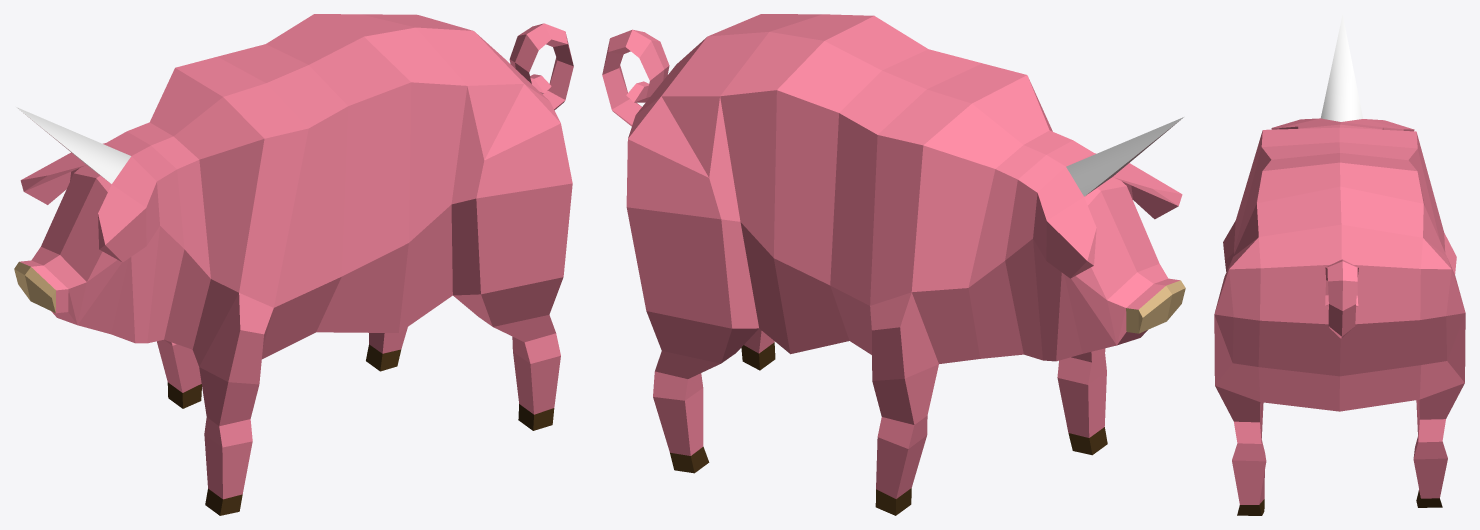
The model's file is pigWalking8.obj.
3 renders of one model, left to right at view 1: azimuth 30°, elevation 25°; view 2: azimuth 150°, elevation 25°; view 3: azimuth 270°, elevation 25°, orthographic. The views are drawn at different scales.
Visible parts, largest first — view 1: Pig_Cylinder; view 2: Pig_Cylinder; view 3: Pig_Cylinder.
Part boxes in pixels (x1,y1,x2,y2): Pig_Cylinder: (14, 14, 573, 515); Pig_Cylinder: (602, 14, 1185, 515); Pig_Cylinder: (1214, 15, 1465, 515).
Size of the model in its own units: 23.12 by 15.8 by 11.11.
